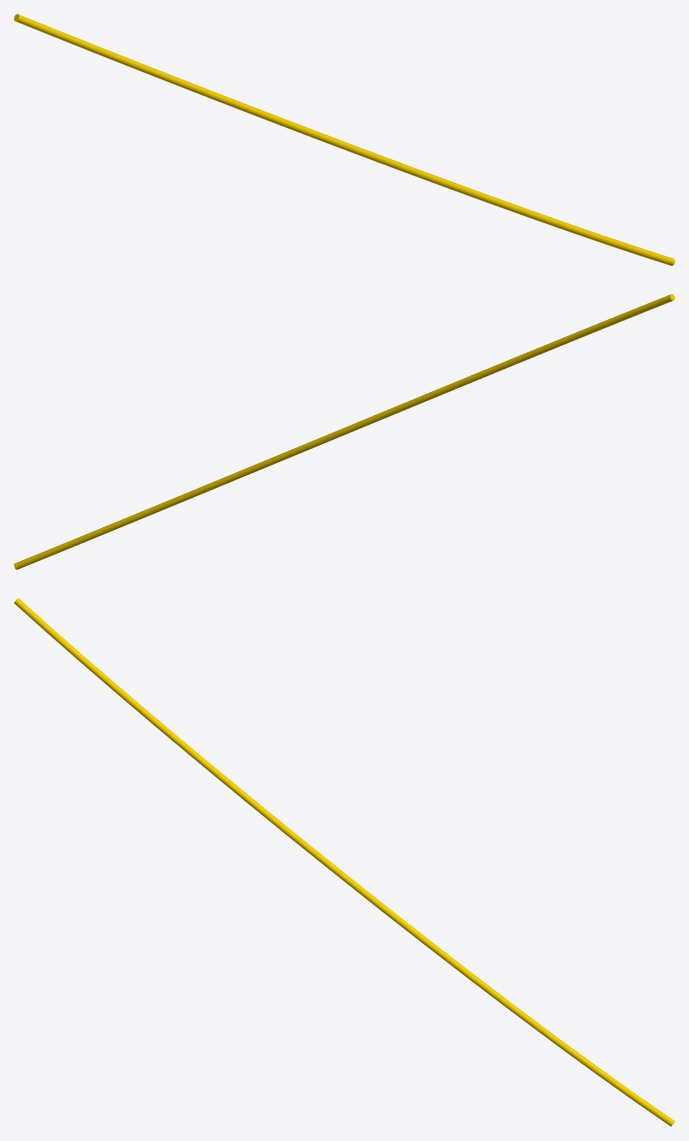
File: Event_420094457_track_9.fbx
The picture shows the model from 3 angles, top to bottom: view 1: azimuth 30°, elevation 25°; view 2: azimuth 150°, elevation 25°; view 3: azimuth 330°, elevation 25°; orthographic projection. The views are drawn at different scales.
Visible parts, largest first — view 1: Model; view 2: Model; view 3: Model.
Boxes of the visible parts, x1=… form: Model: x1=14, y1=14, x2=674, y2=265; Model: x1=14, y1=294, x2=674, y2=569; Model: x1=14, y1=598, x2=674, y2=1126.
Size of the model in its own units: 4.15 by 2.54 by 0.4337.
